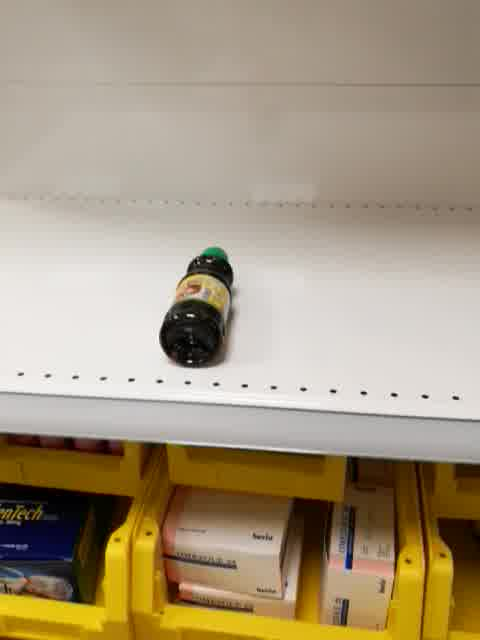cookingoil: (158, 246, 236, 369)
